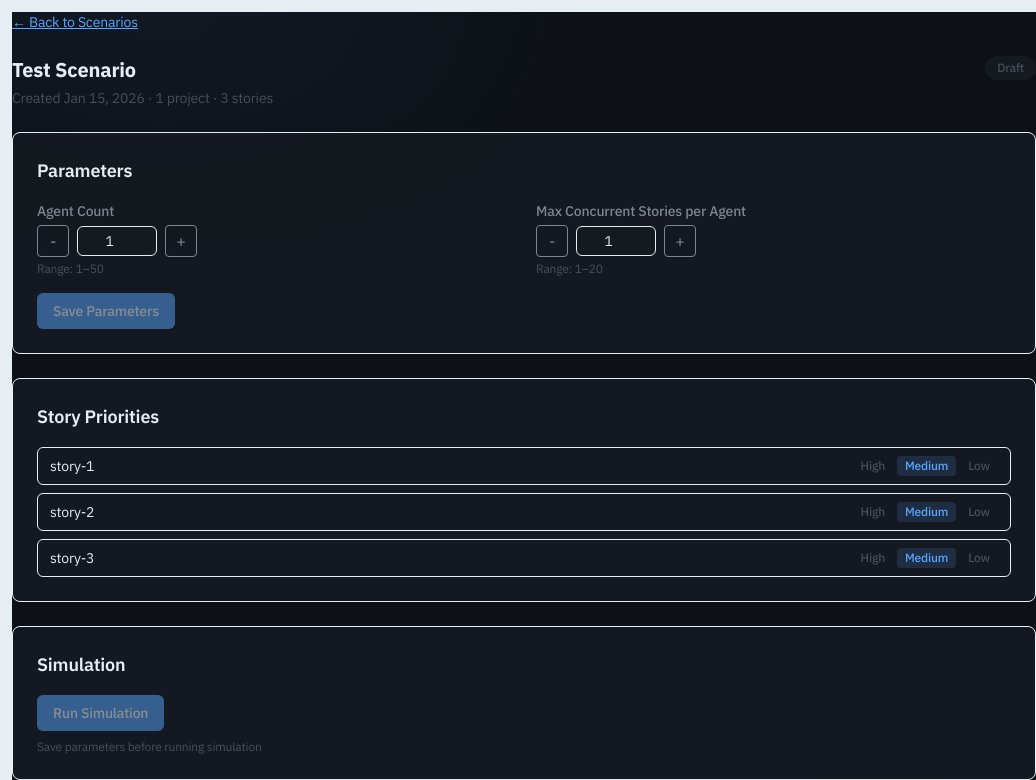
Test: ScenarioDetail › Save Parameters button is enabled when there are changes
The width and height of the screenshot is (1036, 780).
Make a change
Click the button "+" below "Agent Count" at (181, 241), box x1=165 y1=225 x2=197 y2=257
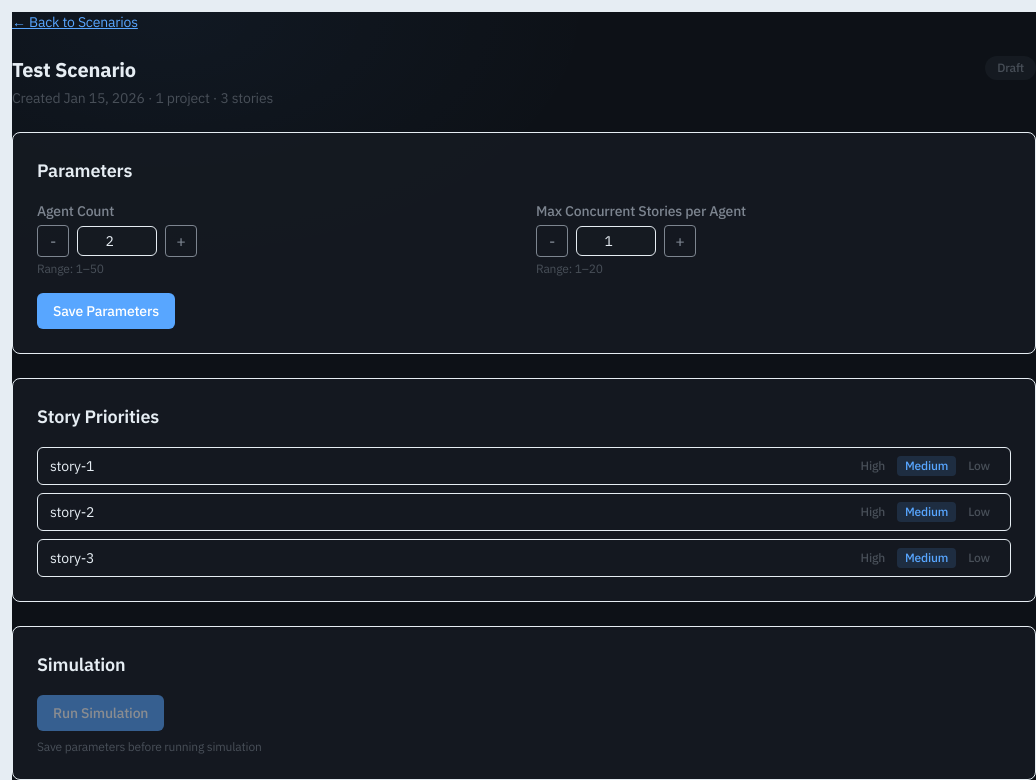
expect the button "Save Parameters" is enabled: met, box x1=37 y1=293 x2=175 y2=329
